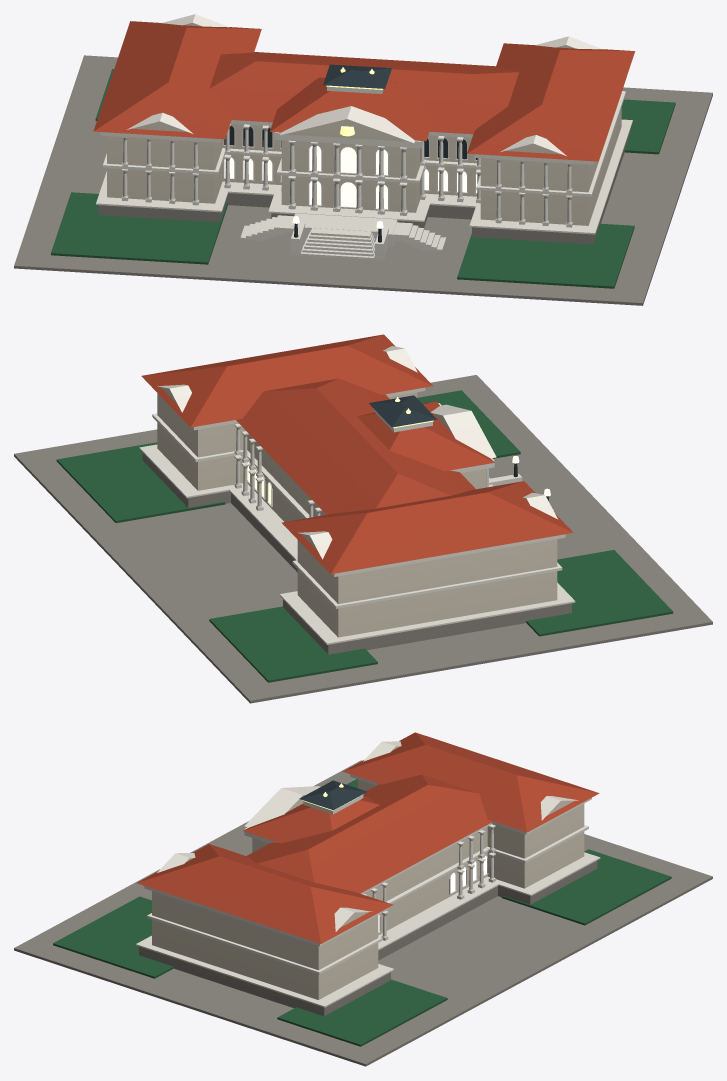
Rendered from bao_tang_tphcm_gia_long.glb.
The picture shows the model from 3 angles, top to bottom: view 1: azimuth 30°, elevation 25°; view 2: azimuth 150°, elevation 25°; view 3: azimuth 270°, elevation 25°; orthographic projection. The views are drawn at different scales.
Visible parts, largest first — view 1: bao_tang_tphcm_gia_long; view 2: bao_tang_tphcm_gia_long; view 3: bao_tang_tphcm_gia_long.
Part boxes in pixels (x1,y1,x2,y2): bao_tang_tphcm_gia_long: (14,14,712,305); bao_tang_tphcm_gia_long: (14,334,712,703); bao_tang_tphcm_gia_long: (14,732,712,1066).
Size of the model in its own units: 122 by 22 by 119.
